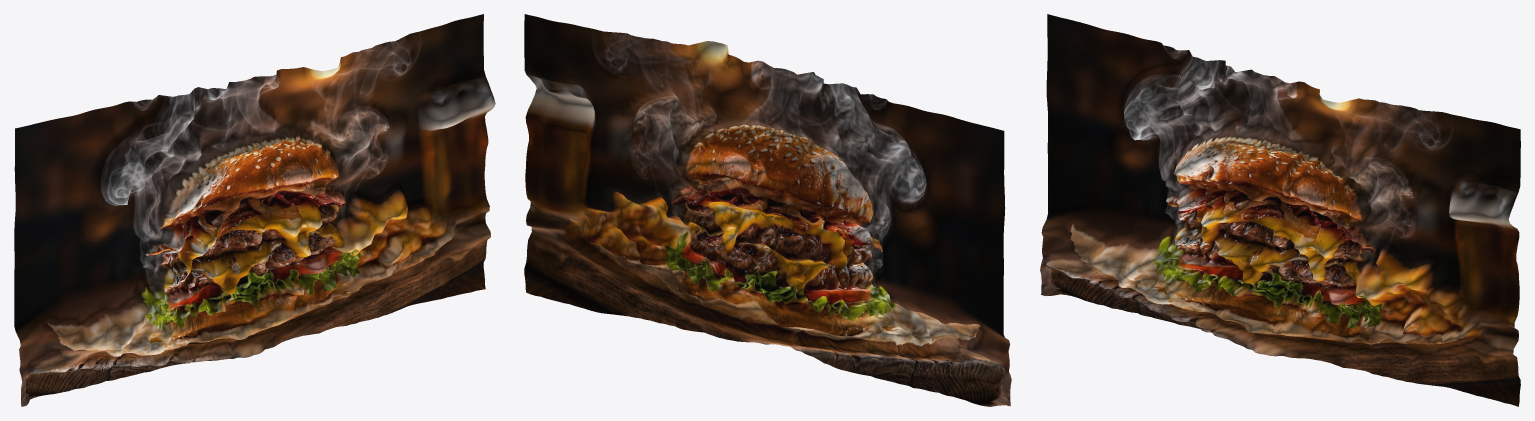
The model's file is hamburguesa.glb.
3 views of the same model, side by side, from view 1: azimuth 30°, elevation 25°; view 2: azimuth 150°, elevation 25°; view 3: azimuth 330°, elevation 25° (orthographic). The views are drawn at different scales.
Parts seen in each view (by area): view 1: Hamburguesa3D; view 2: Hamburguesa3D; view 3: Hamburguesa3D.
Part boxes in pixels (left/top/right/bottom): Hamburguesa3D: left=14, top=14, right=495, bottom=406; Hamburguesa3D: left=524, top=14, right=1011, bottom=406; Hamburguesa3D: left=1040, top=14, right=1520, bottom=406.
Size of the model in its own units: 2 by 1.12 by 0.1465.
Materials: 1 (1 with a texture image).
